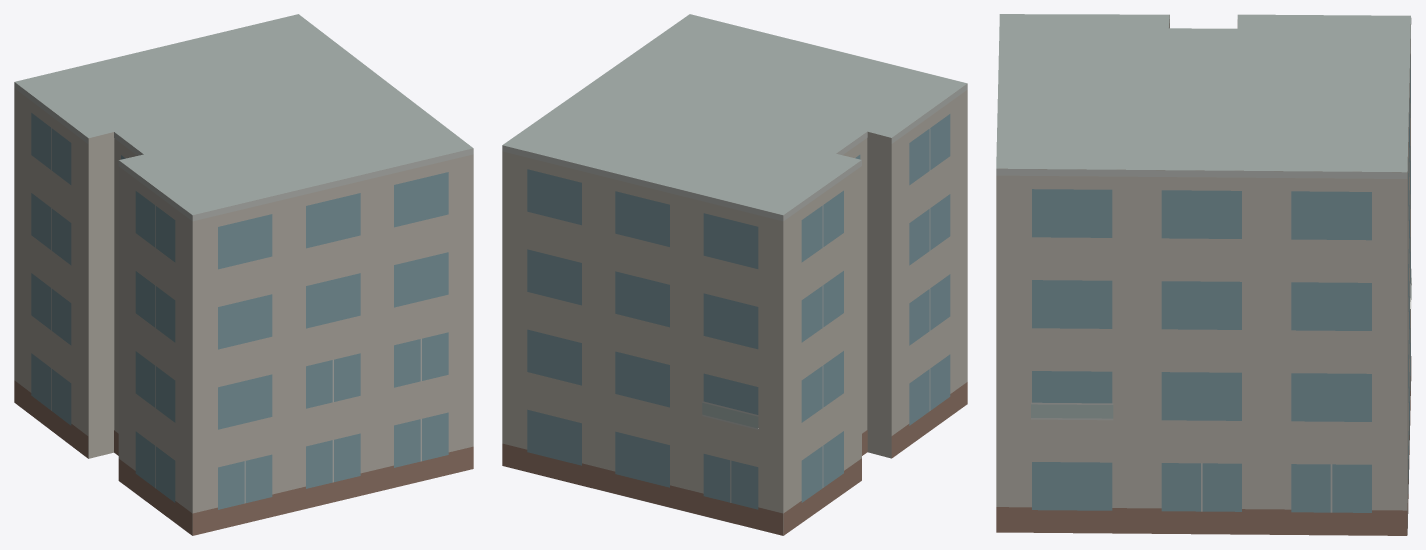
The model's file is survey-upis-32637937.glb.
The picture shows the model from 3 angles, left to right: view 1: azimuth 30°, elevation 25°; view 2: azimuth 150°, elevation 25°; view 3: azimuth 270°, elevation 25°; orthographic projection. The views are drawn at different scales.
Parts seen in each view (by area): view 1: survey-upis-32637937.tmp; view 2: survey-upis-32637937.tmp; view 3: survey-upis-32637937.tmp.
Part boxes in pixels (<box>): survey-upis-32637937.tmp: <box>14,14,473,535</box>; survey-upis-32637937.tmp: <box>502,14,967,535</box>; survey-upis-32637937.tmp: <box>996,14,1411,535</box>.
Size of the model in its own units: 11.95 by 12.8 by 13.27.
